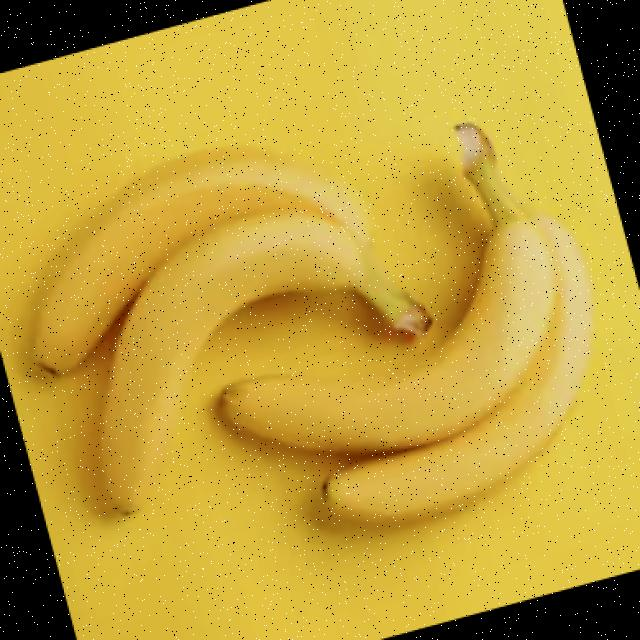god quality banana: (220, 123, 591, 523), (33, 151, 428, 513)
